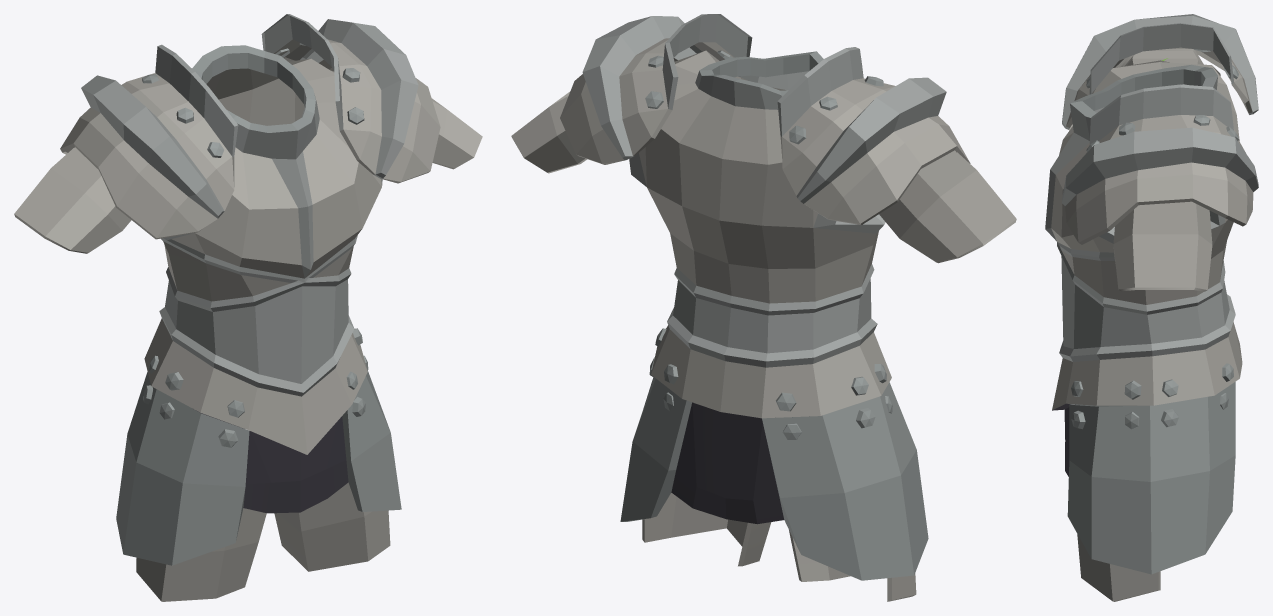
File: armorFullPlateDisplay.fbx
3 views of the same model, side by side, from view 1: azimuth 30°, elevation 25°; view 2: azimuth 150°, elevation 25°; view 3: azimuth 270°, elevation 25° (orthographic). The views are drawn at different scales.
Parts seen in each view (by area): view 1: armorFullPlateDisplay; view 2: armorFullPlateDisplay; view 3: armorFullPlateDisplay.
Part boxes in pixels (left/top/right/bottom): armorFullPlateDisplay: left=14, top=14, right=482, bottom=601; armorFullPlateDisplay: left=511, top=14, right=1016, bottom=601; armorFullPlateDisplay: left=1045, top=14, right=1258, bottom=601.
Size of the model in its own units: 1.59 by 1.79 by 0.6948.
